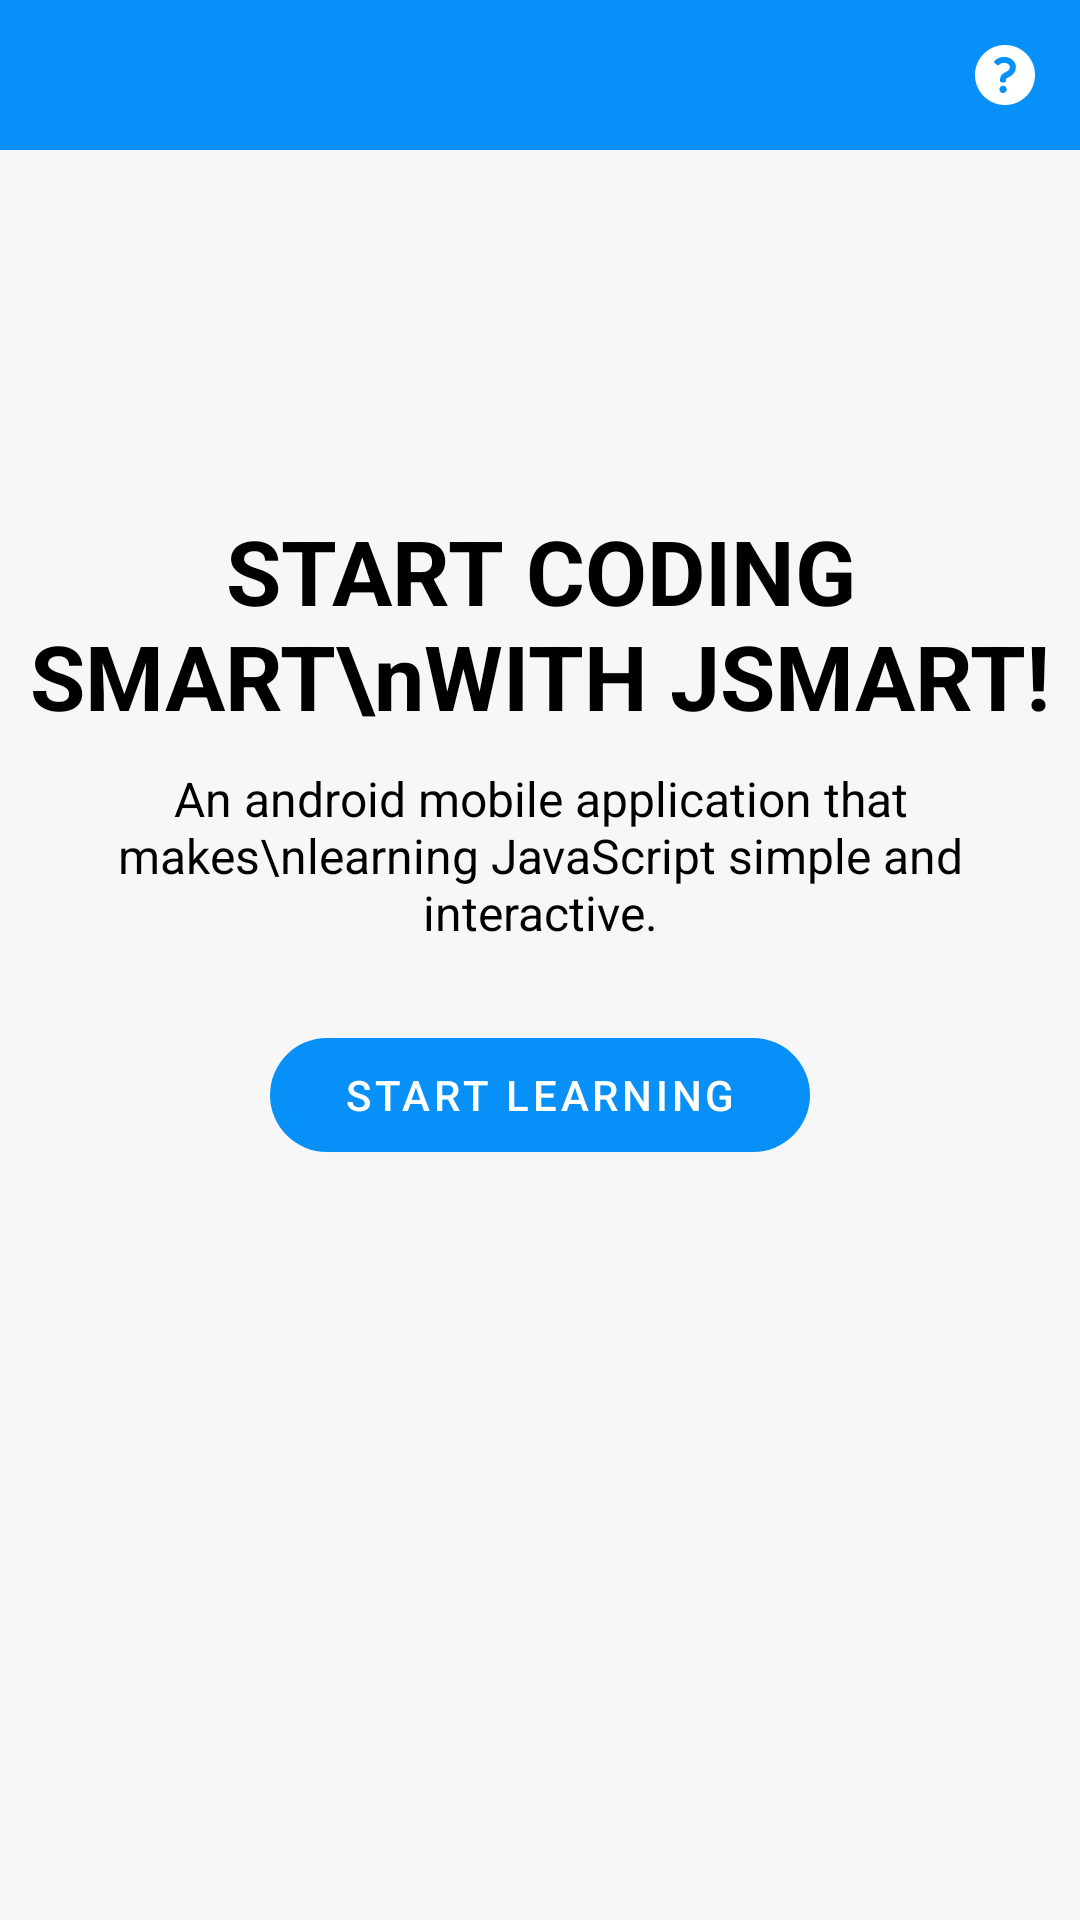

Icons on this 1080w x 1920h Android screen, each with its box as Rect(x1, y1, x2, y2):
tutorial: Rect(975, 45, 1035, 105)
